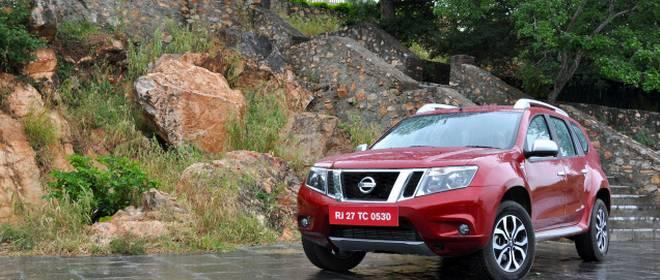License-Plate: (333, 204, 396, 229)
